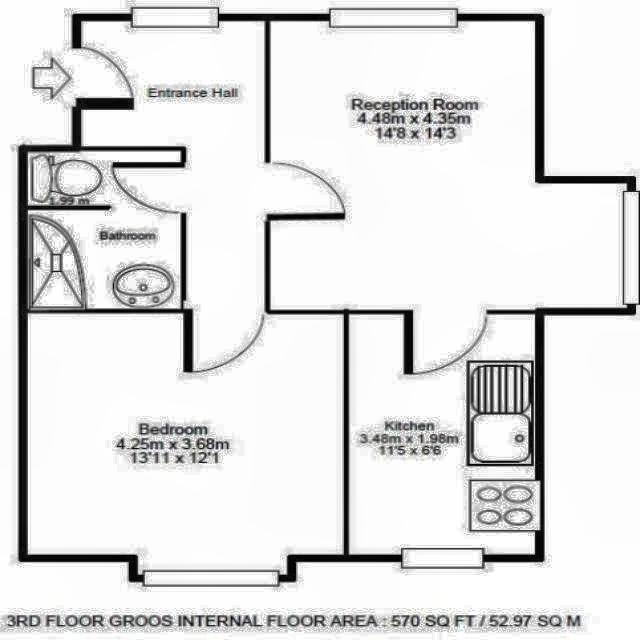room: (270, 21, 627, 310), (28, 315, 343, 575), (80, 21, 264, 303), (350, 314, 535, 554), (29, 151, 180, 309)
